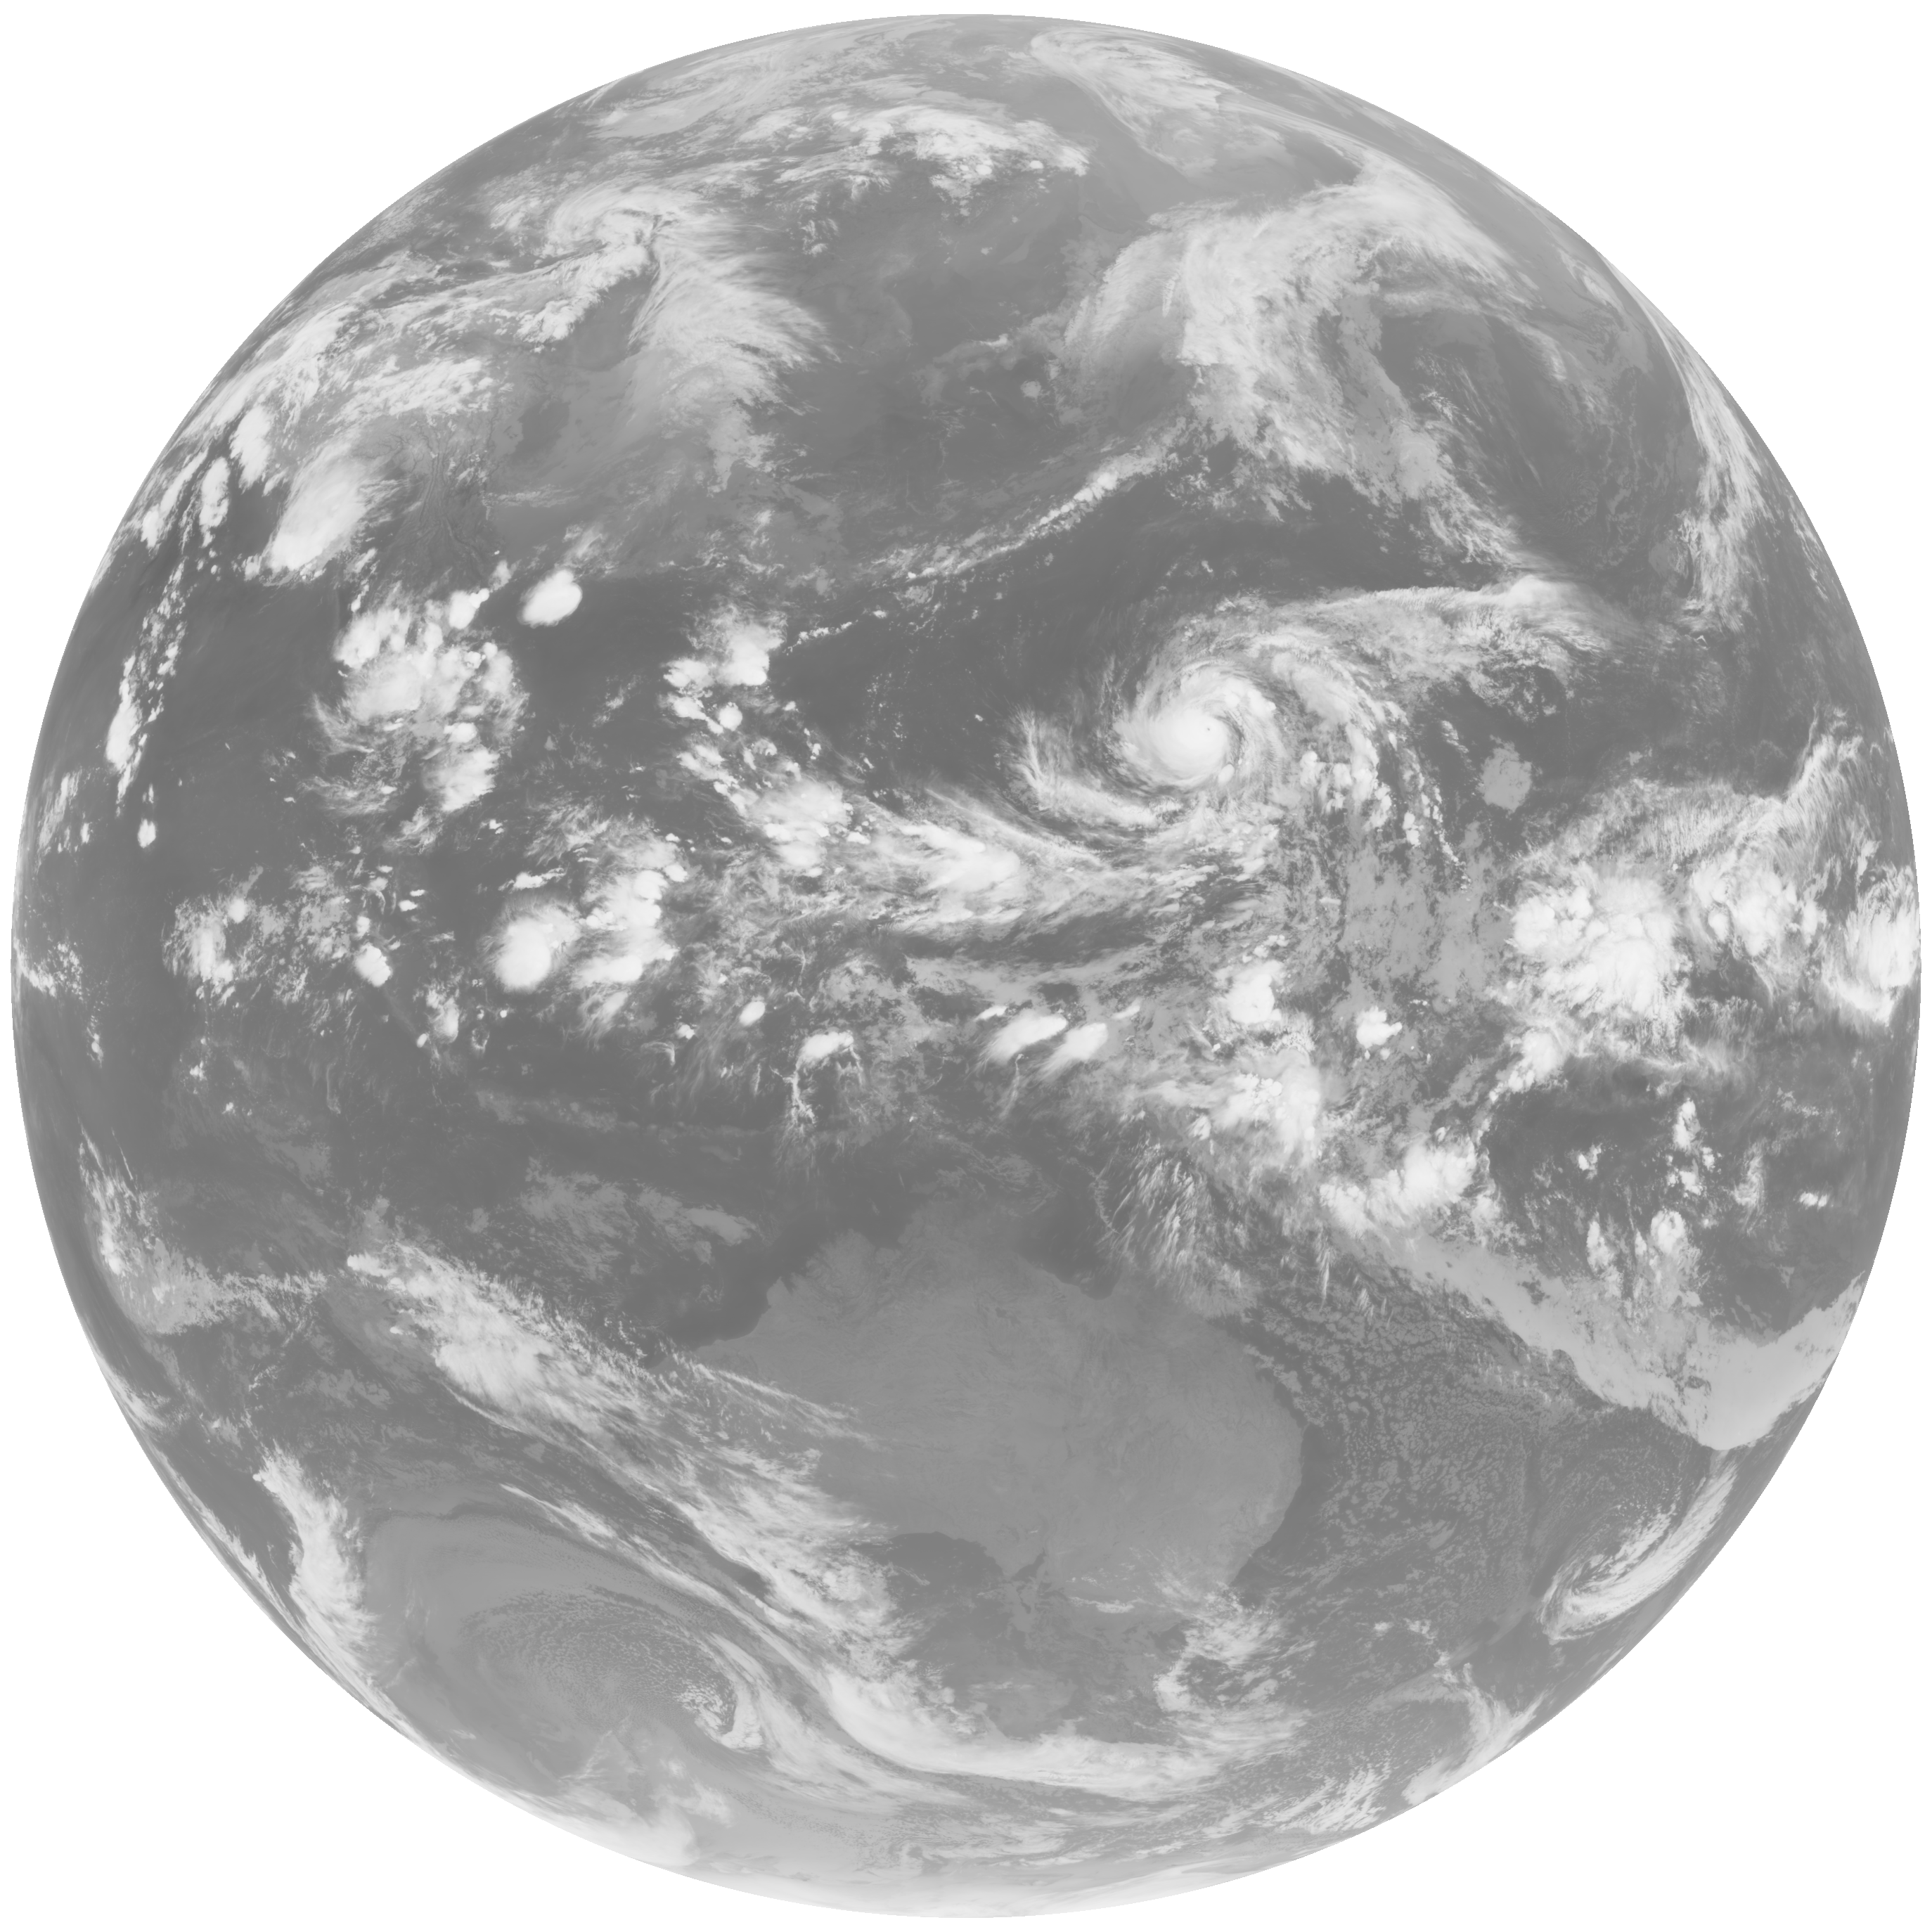typhoon: (966, 548, 1511, 925)
